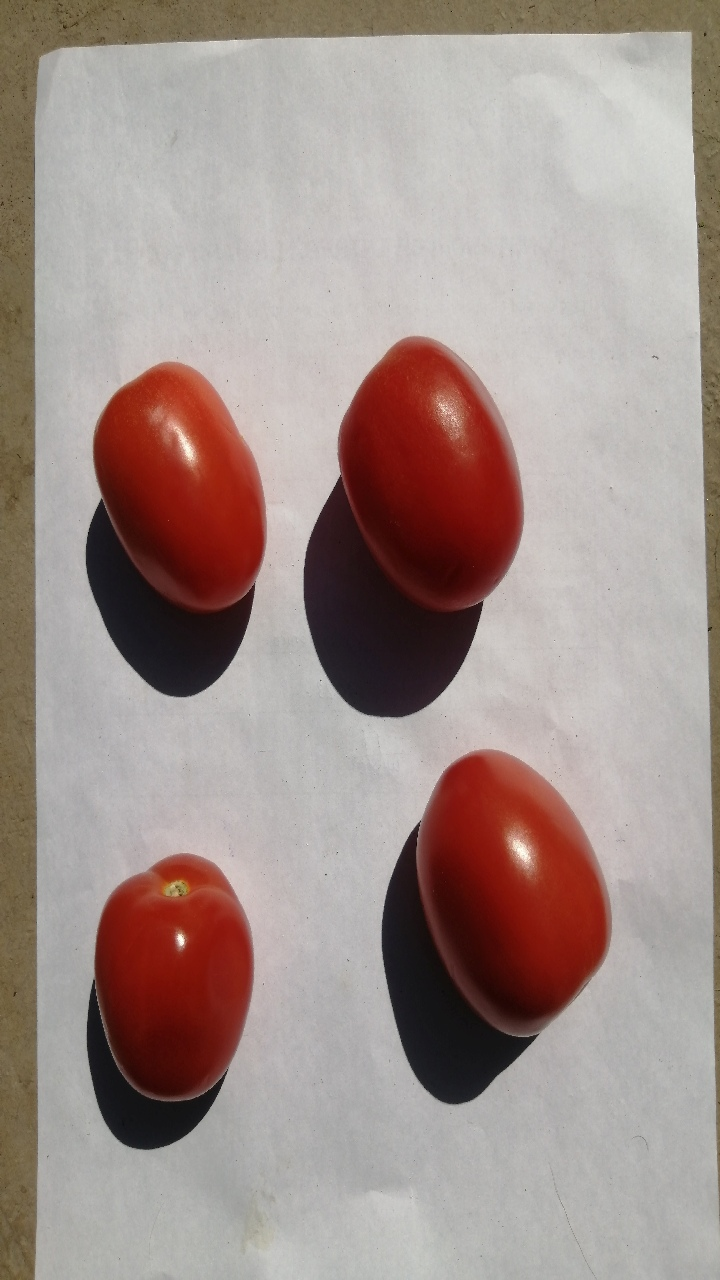tomateRojo: (394, 717, 623, 1052), (320, 299, 534, 612), (77, 829, 269, 1128), (83, 343, 269, 625)
